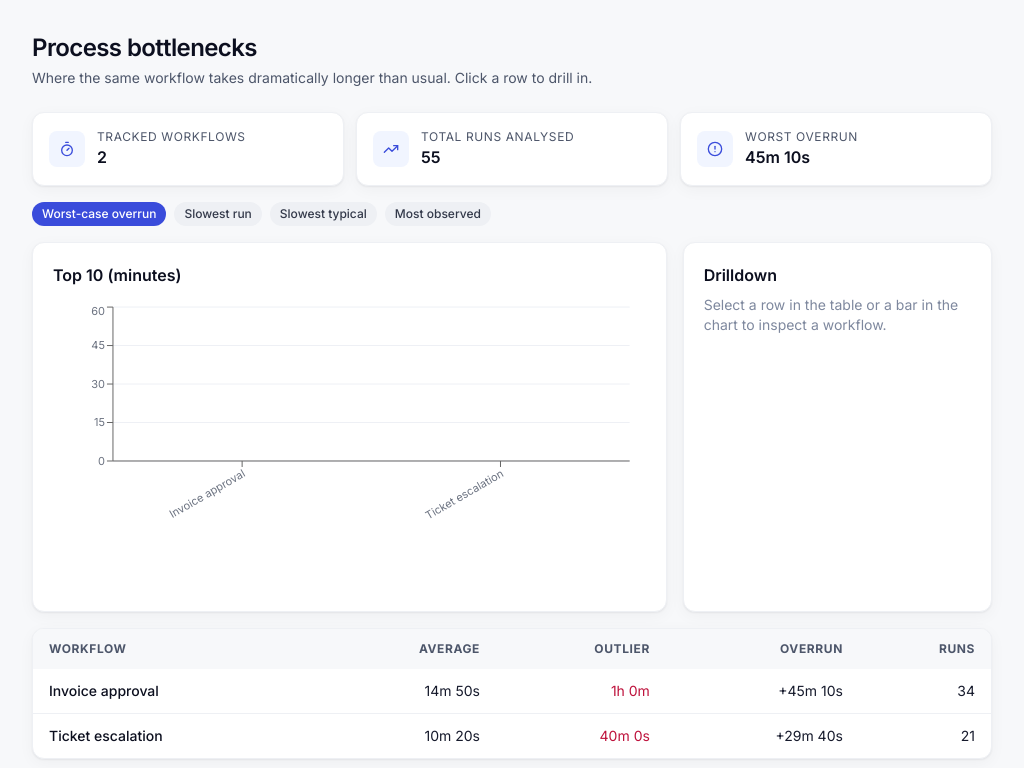
Test case: BottlenecksPage › shows a drilldown when a row is clicked
Click the row "Invoice approval 14m 50s 1h 0m +45m 10s 34" at (104, 690), box [33,669,991,714]
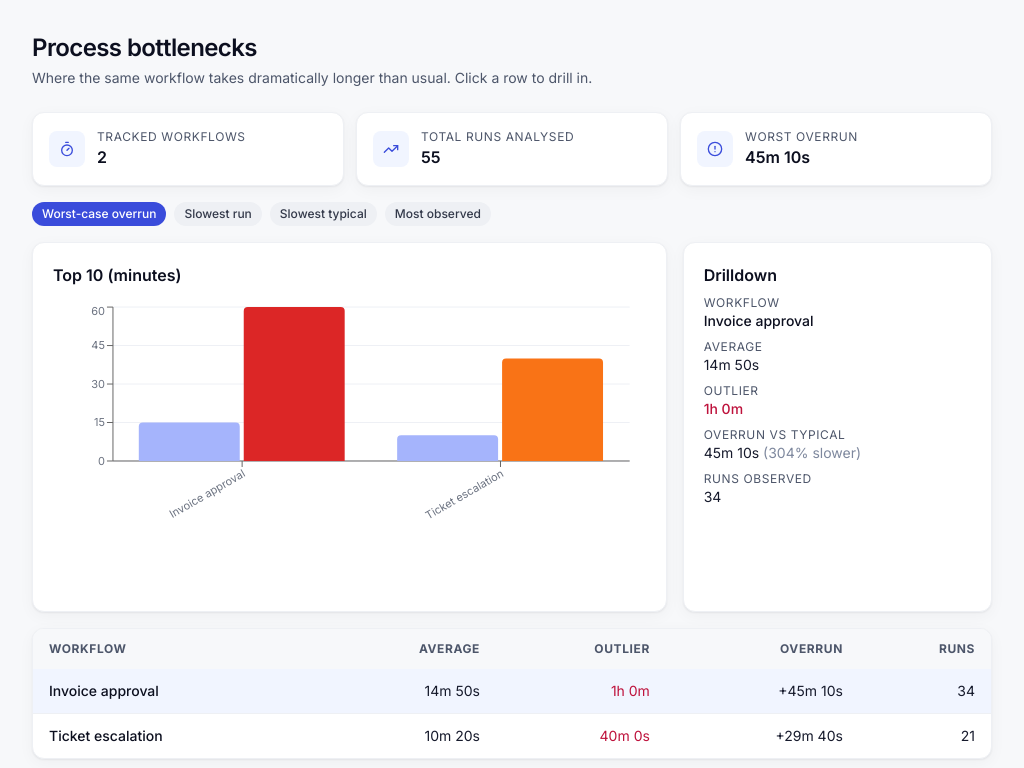
Expected: the heading "Drilldown" is shown, [704,265,777,285]
Expected: the text "Overrun vs typical" is shown, [704,427,846,442]
